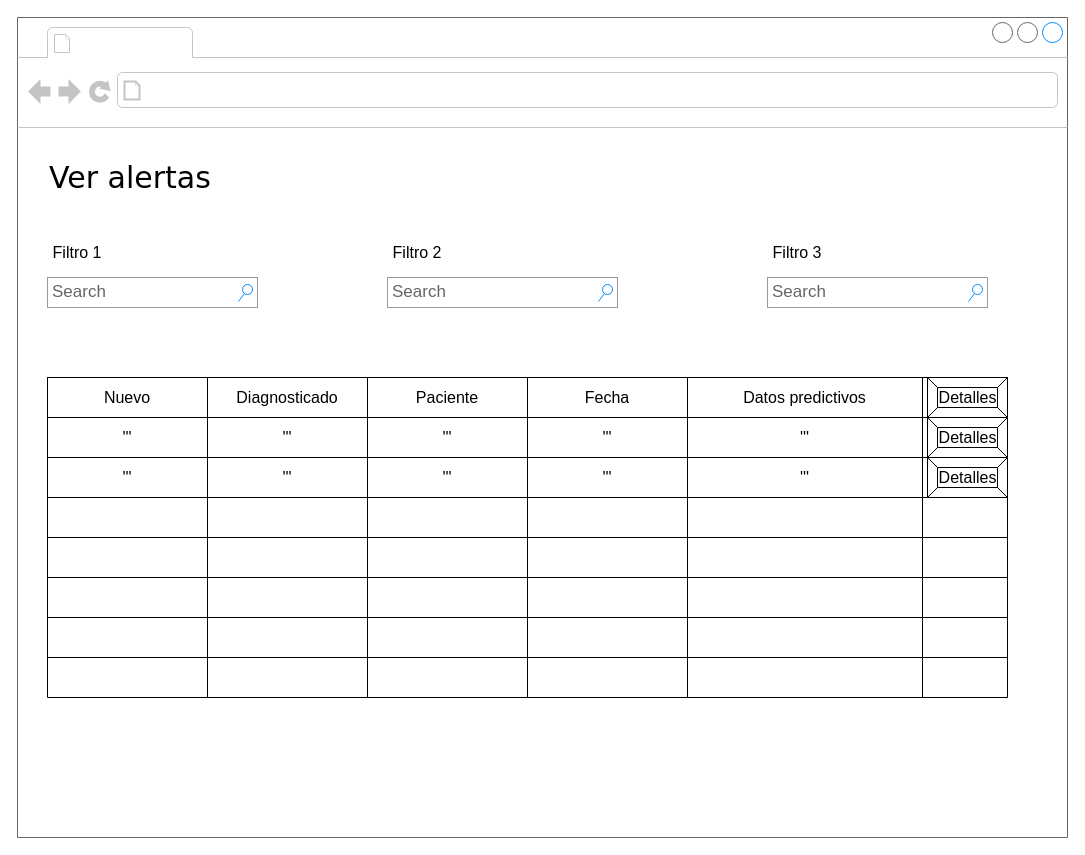
Image size: 1085x855. Some labels were removed from this diagram. Each missing label, with the centre of its shape:
https://www.default.com: point (272, 90)
Page 1: point (132, 42)
